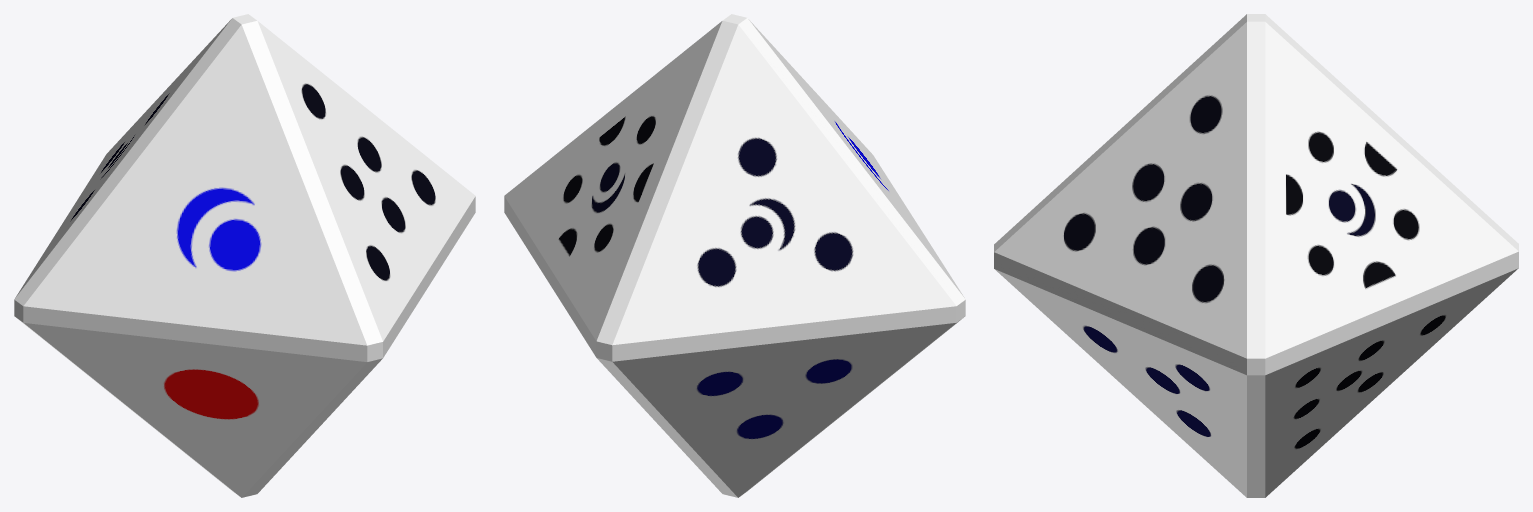
File: Dice08.obj
3 renders of one model, left to right at view 1: azimuth 30°, elevation 25°; view 2: azimuth 150°, elevation 25°; view 3: azimuth 270°, elevation 25°, orthographic.
Parts seen in each view (by area): view 1: Cube_Cube.001; view 2: Cube_Cube.001; view 3: Cube_Cube.001.
Boxes of the visible parts, x1=… form: Cube_Cube.001: x1=14, y1=14, x2=475, y2=497; Cube_Cube.001: x1=504, y1=14, x2=965, y2=497; Cube_Cube.001: x1=994, y1=14, x2=1518, y2=497.
Size of the model in its own units: 0.1869 by 0.1869 by 0.1867.
Materials: 1 (1 with a texture image).
